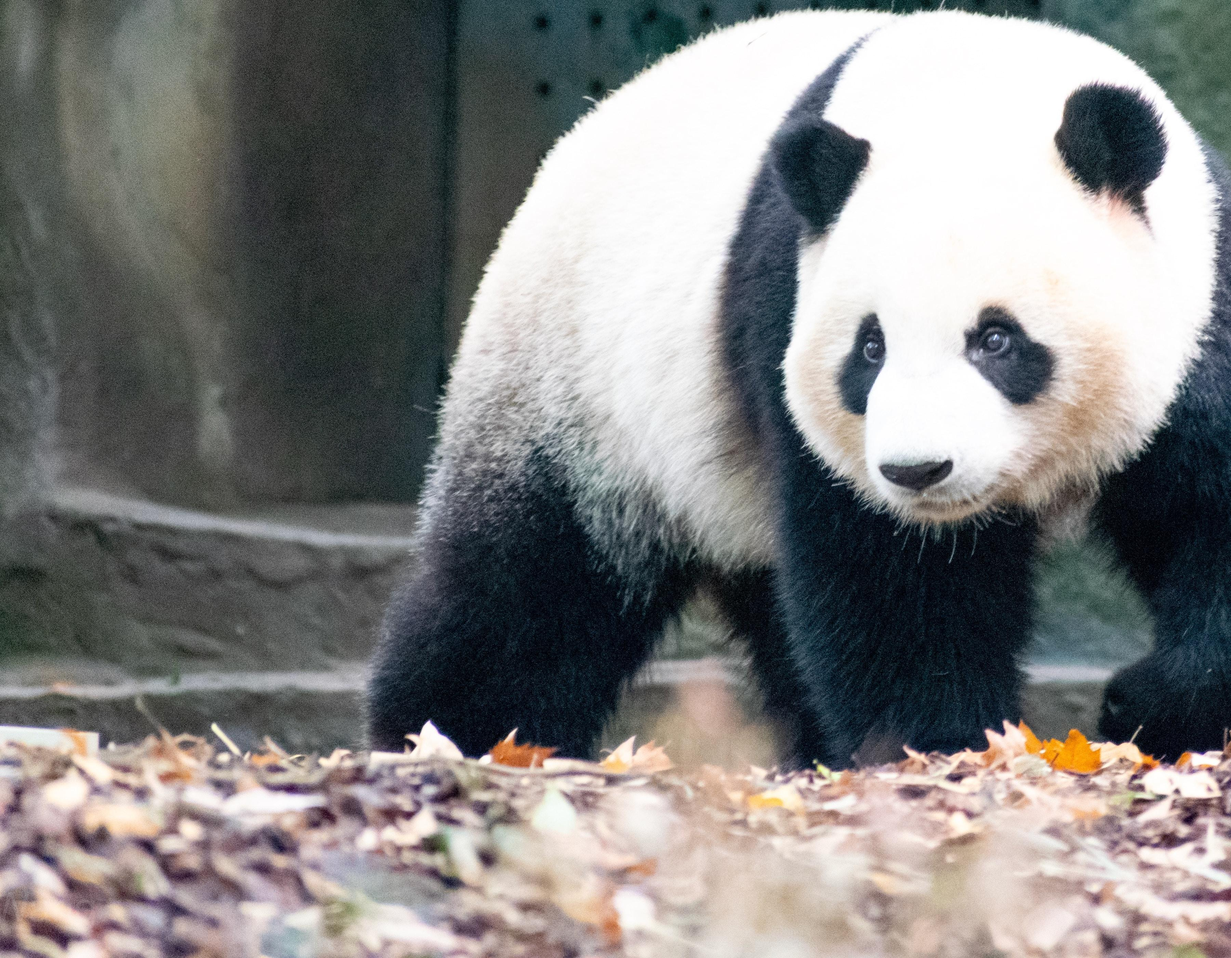panda: (368, 12, 1231, 751)
